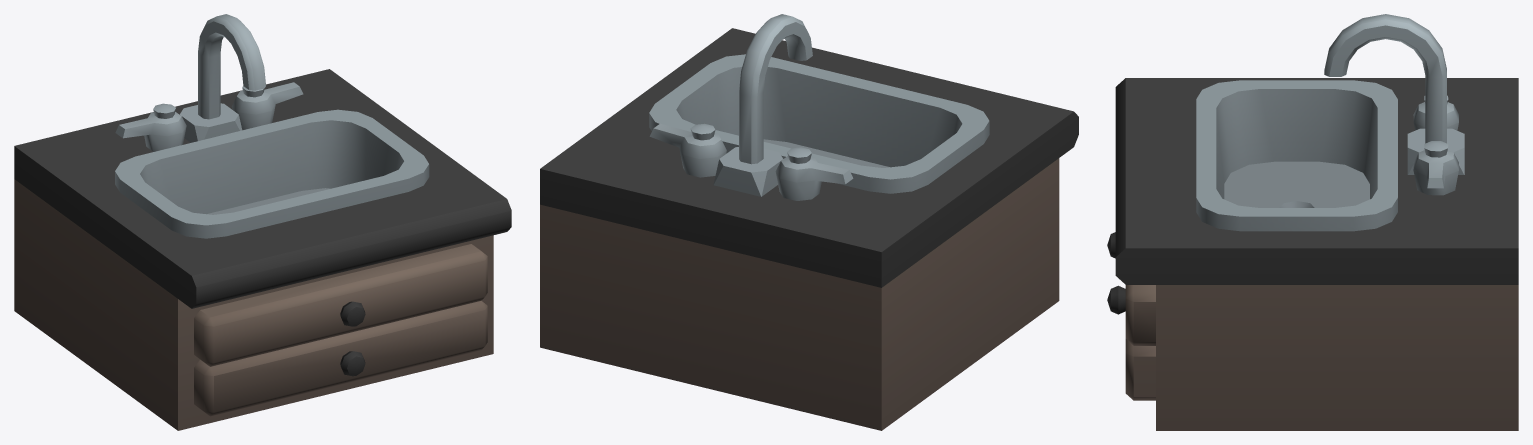
File: kitchencounter_sink_styleB.obj
3 views of the same model, side by side, from view 1: azimuth 30°, elevation 25°; view 2: azimuth 150°, elevation 25°; view 3: azimuth 270°, elevation 25° (orthographic). The views are drawn at different scales.
Parts seen in each view (by area): view 1: kitchencounter_sink_styleB_Cube.004; view 2: kitchencounter_sink_styleB_Cube.004; view 3: kitchencounter_sink_styleB_Cube.004.
Part boxes in pixels (left/top/right/bottom): kitchencounter_sink_styleB_Cube.004: left=14, top=14, right=511, bottom=430; kitchencounter_sink_styleB_Cube.004: left=540, top=14, right=1078, bottom=430; kitchencounter_sink_styleB_Cube.004: left=1107, top=14, right=1518, bottom=430.
Size of the model in its own units: 2 by 1.8 by 2.04.
Materials: 1 (1 with a texture image).
